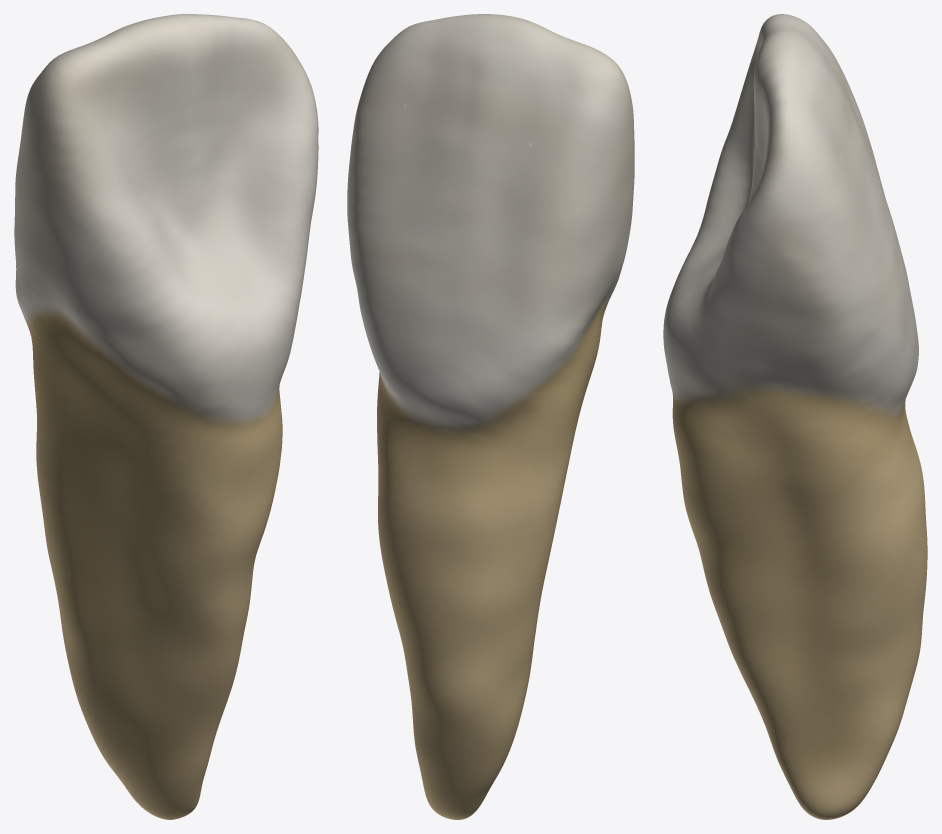
File: maxillary_lateral_incisor_angled.glb
3 views of the same model, side by side, from view 1: azimuth 30°, elevation 25°; view 2: azimuth 150°, elevation 25°; view 3: azimuth 270°, elevation 25° (orthographic). The views are drawn at different scales.
Visible parts, largest first — view 1: Object_2; view 2: Object_2; view 3: Object_2.
Part boxes in pixels (bbox=[...]): Object_2: bbox=[14, 14, 318, 819]; Object_2: bbox=[347, 14, 634, 819]; Object_2: bbox=[663, 14, 927, 819].
Bounding box in the file's own units: 3.45 × 9.87 × 3.1.
Materials: 1 (1 with a texture image).
